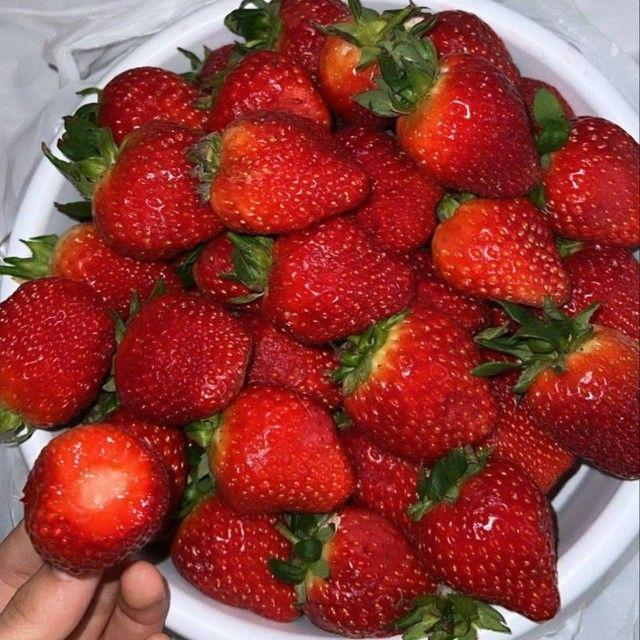strawberry: (356, 33, 540, 197), (475, 303, 639, 478), (43, 110, 221, 260), (411, 448, 559, 620), (338, 305, 496, 463), (23, 423, 169, 573), (270, 507, 435, 637), (196, 112, 368, 233), (263, 218, 414, 342), (209, 386, 353, 513), (114, 293, 250, 425), (93, 122, 221, 259), (0, 277, 113, 430), (0, 223, 182, 317), (171, 496, 298, 621), (431, 198, 569, 305), (336, 126, 443, 252), (318, 0, 422, 126), (542, 117, 639, 246), (484, 373, 575, 492), (225, 0, 349, 80), (206, 51, 330, 131), (242, 312, 341, 409), (340, 427, 418, 535), (97, 67, 206, 144), (107, 409, 187, 513), (563, 244, 639, 339), (407, 250, 490, 333), (426, 10, 519, 83), (192, 232, 272, 305), (179, 43, 241, 94), (519, 77, 574, 130)
